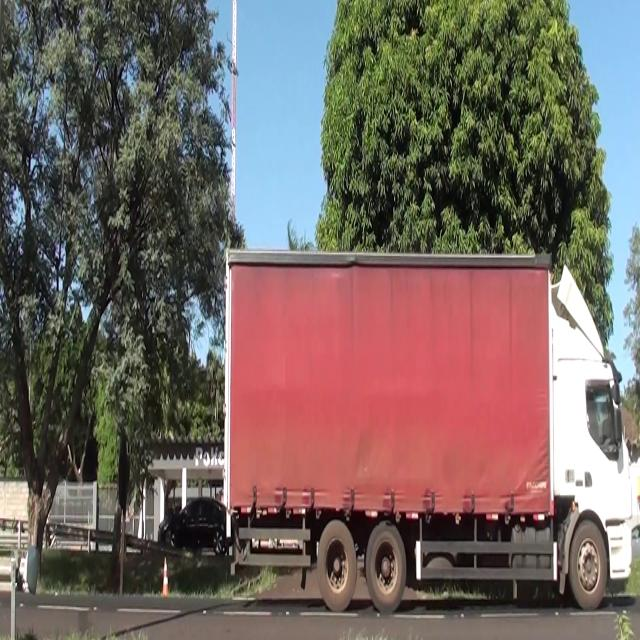-axle: (366, 517, 407, 613), (567, 520, 609, 610), (319, 520, 356, 612)
